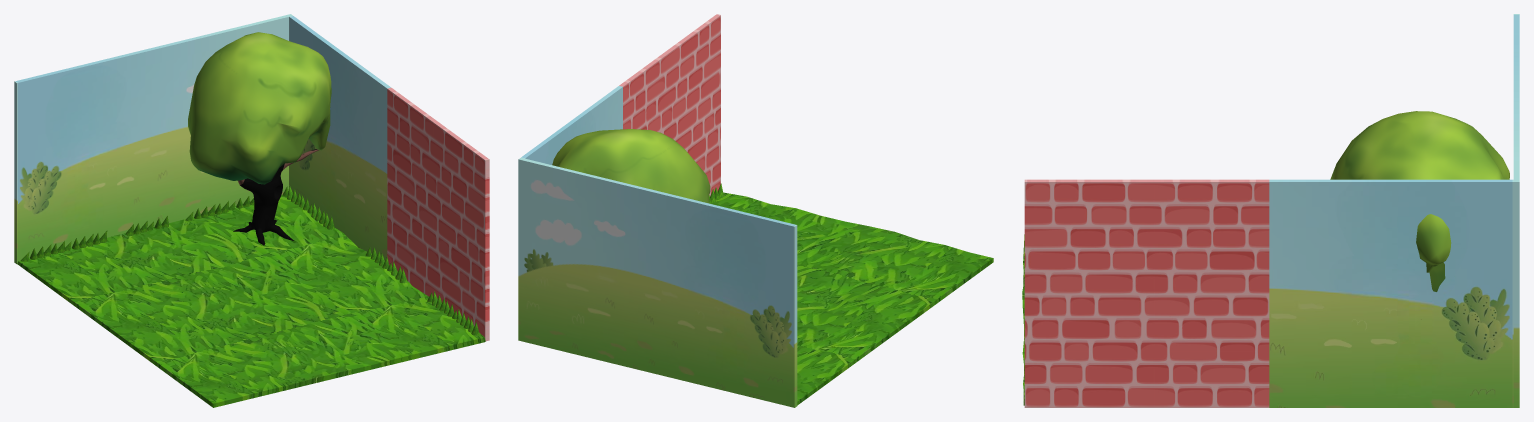
The model's file is parque ambiente.fbx.
3 renders of one model, left to right at view 1: azimuth 30°, elevation 25°; view 2: azimuth 150°, elevation 25°; view 3: azimuth 270°, elevation 25°, orthographic. The views are drawn at different scales.
Parts seen in each view (by area): view 1: piso parque, piso parque2, pared parque.001, PM3D_Sphere3D_2.001, pared parque, pasto parque, PM3D_Sphere3D_1.001; view 2: piso parque2, piso parque, pared parque.001, PM3D_Sphere3D_2.001, pared parque; view 3: pared parque.001, pared parque, PM3D_Sphere3D_2.001, piso parque2.
Boxes of the visible parts, x1,y1,x2,y2 form: piso parque: (17, 195, 485, 407); piso parque2: (14, 14, 292, 263); pared parque.001: (387, 87, 489, 341); PM3D_Sphere3D_2.001: (188, 32, 331, 184); pared parque: (289, 16, 390, 260); pasto parque: (20, 185, 479, 335); PM3D_Sphere3D_1.001: (233, 149, 318, 245); piso parque2: (518, 157, 797, 407); piso parque: (712, 192, 993, 405); pared parque.001: (619, 14, 720, 196); PM3D_Sphere3D_2.001: (552, 129, 710, 203); pared parque: (521, 86, 622, 164); pared parque.001: (1024, 179, 1269, 407); pared parque: (1269, 179, 1513, 407); PM3D_Sphere3D_2.001: (1330, 111, 1509, 291); piso parque2: (1513, 14, 1519, 407).
Size of the model in its own units: 4337 by 2862 by 5235.
